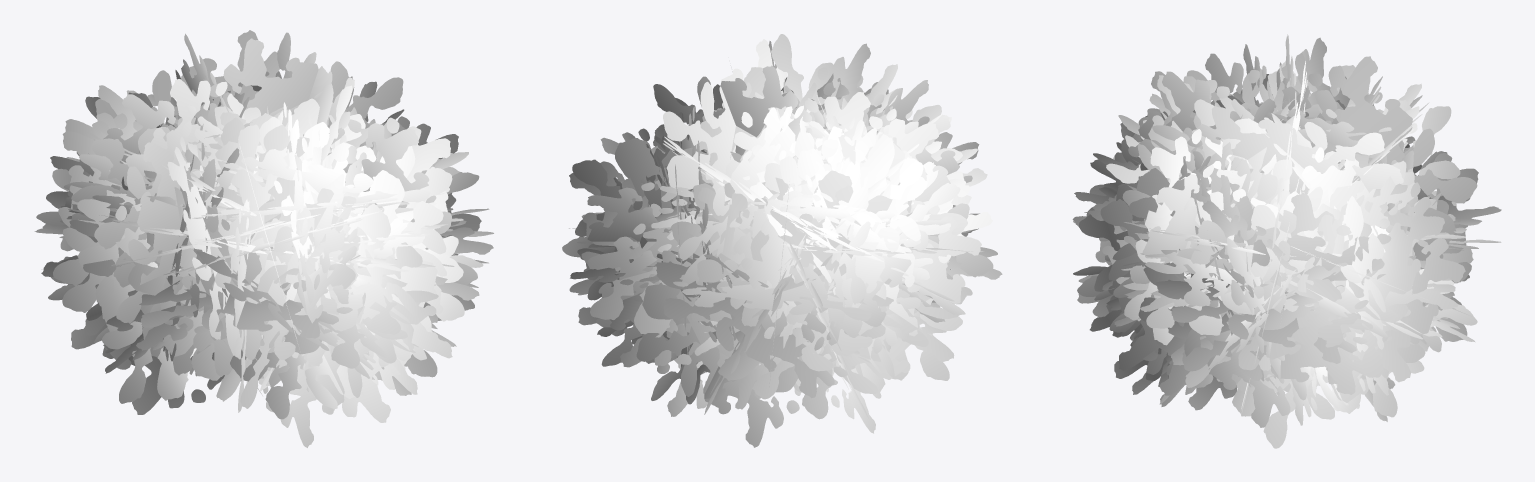
File: bushes.fbx
3 views of the same model, side by side, from view 1: azimuth 30°, elevation 25°; view 2: azimuth 150°, elevation 25°; view 3: azimuth 270°, elevation 25° (orthographic). The views are drawn at different scales.
Visible parts, largest first — view 1: Regular_Bush; view 2: Regular_Bush; view 3: Regular_Bush.
Part boxes in pixels (<box>): Regular_Bush: <box>34,30,493,447</box>; Regular_Bush: <box>562,34,1002,447</box>; Regular_Bush: <box>1072,34,1501,448</box>.
Bounding box in the file's own units: 171 × 156 × 171.
